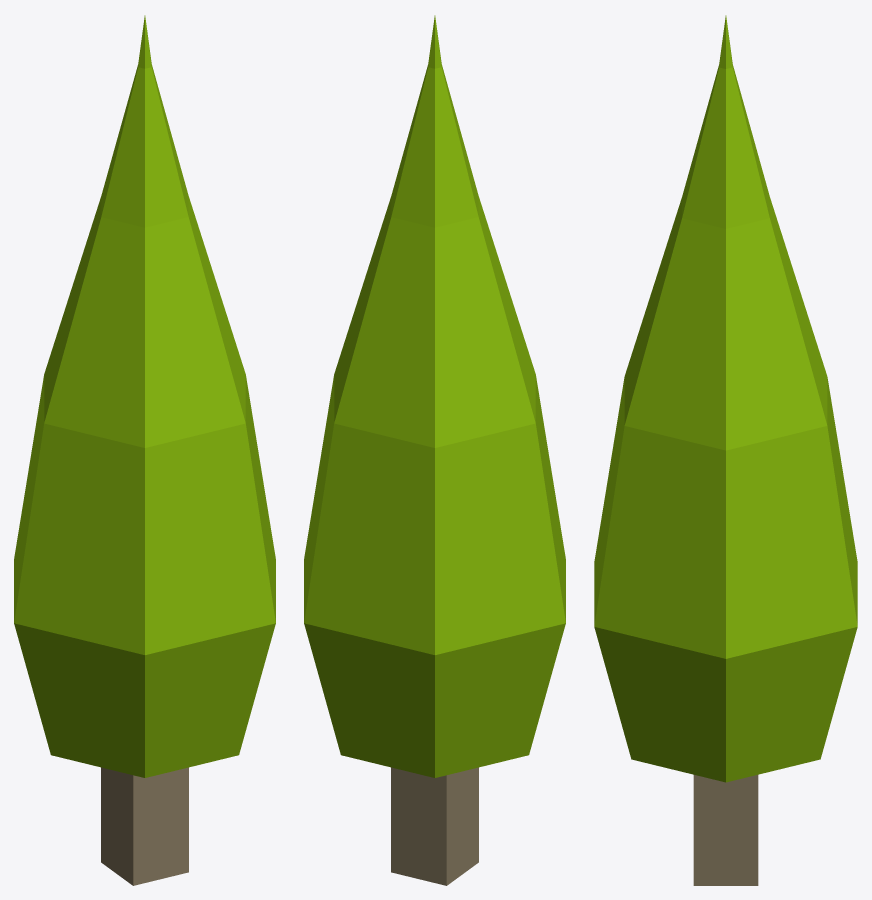
Rendered from tree_cone_1.fbx.
The picture shows the model from 3 angles, left to right: view 1: azimuth 30°, elevation 25°; view 2: azimuth 150°, elevation 25°; view 3: azimuth 270°, elevation 25°; orthographic projection.
Visible parts, largest first — view 1: tree_cone_1; view 2: tree_cone_1; view 3: tree_cone_1.
Boxes of the visible parts, box(x1,y1,x2,y2) form: tree_cone_1: box(14, 15, 275, 885); tree_cone_1: box(304, 15, 565, 885); tree_cone_1: box(594, 15, 857, 885).
Bounding box in the file's own units: 57.74 × 180 × 50.
